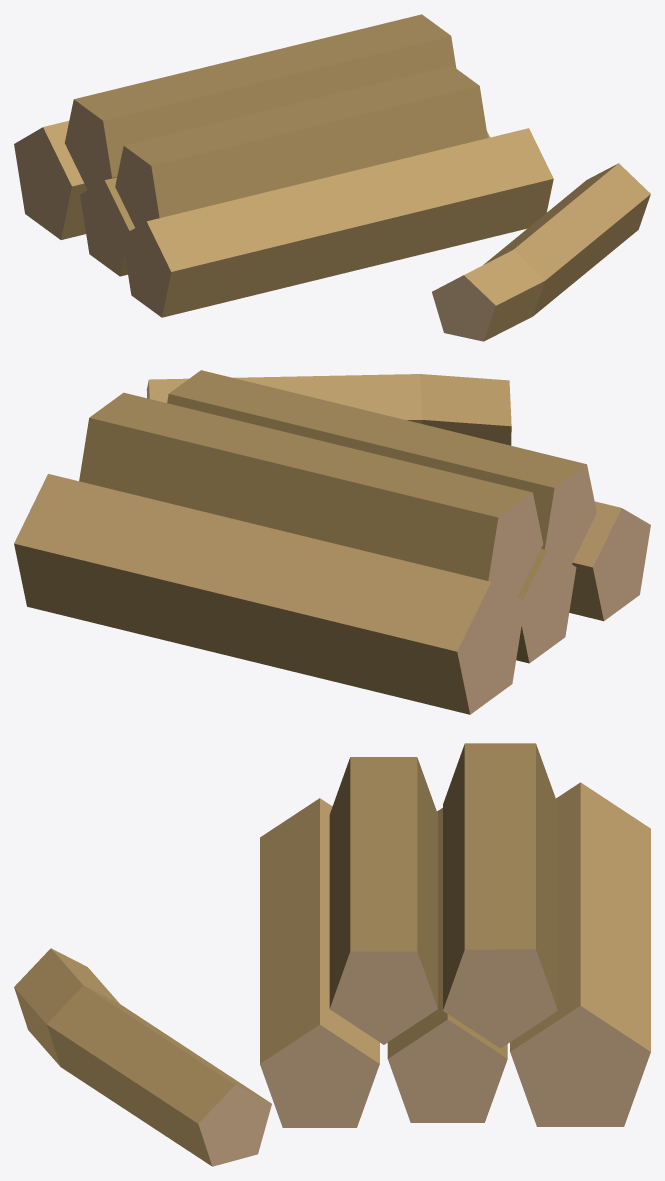
Rendered from Oak_Firewood_Pile_02.fbx.
3 renders of one model, top to bottom at view 1: azimuth 30°, elevation 25°; view 2: azimuth 150°, elevation 25°; view 3: azimuth 270°, elevation 25°, orthographic. The views are drawn at different scales.
Visible parts, largest first — view 1: Oak_Firewood_Pile_02; view 2: Oak_Firewood_Pile_02; view 3: Oak_Firewood_Pile_02.
Part boxes in pixels (x1,y1,x2,y2): Oak_Firewood_Pile_02: [14, 14, 650, 341]; Oak_Firewood_Pile_02: [14, 370, 650, 714]; Oak_Firewood_Pile_02: [14, 743, 650, 1166].
Size of the model in its own units: 70.06 by 20.37 by 70.08.
